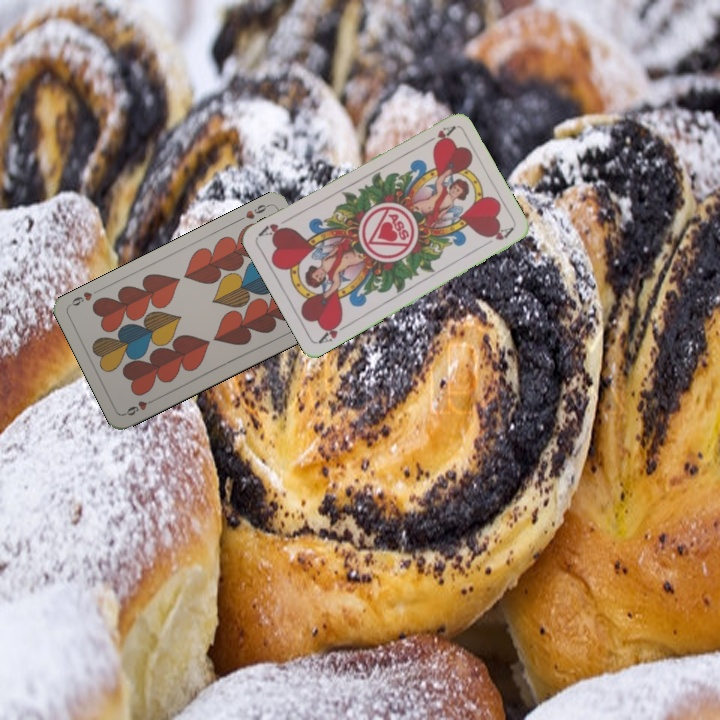H9: (120, 394, 159, 418), (234, 200, 272, 224)
HA: (314, 316, 352, 346), (419, 122, 457, 148)
